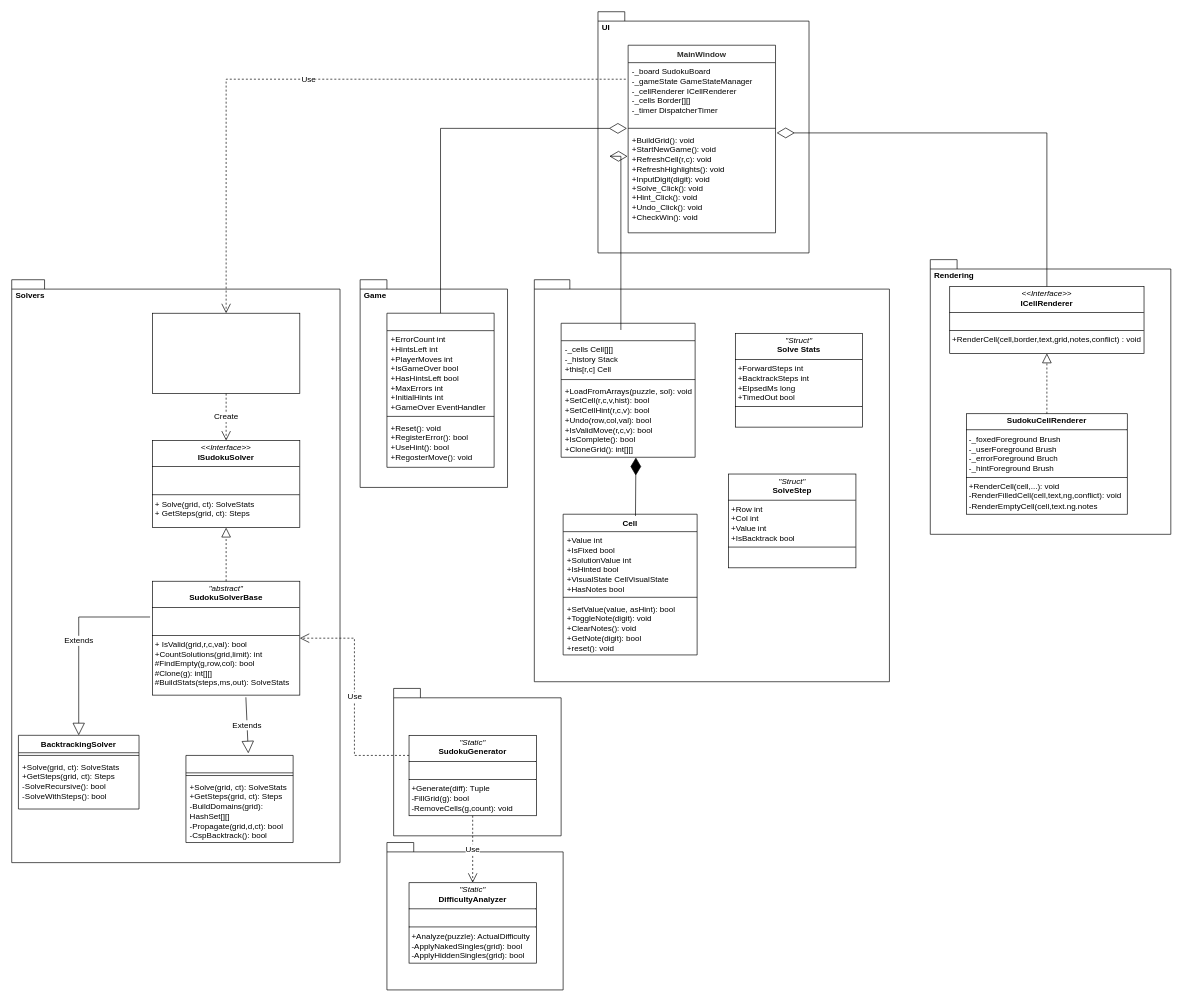
Image size: 1183x1002. Some labels were removed from this diagram. The box of each missing label's shape, as (x1, y1, x2, y2) in pixels:
"Static" SudokuSolverFactory + Create(algorithm): ISudokuSolver: (152, 313, 300, 394)
Analyzers: (386, 842, 563, 990)
CspSolver: (185, 755, 293, 843)
GameStateManager: (386, 313, 494, 467)
Generators: (393, 688, 561, 836)
Models: (534, 279, 889, 682)
SudokuBoard: (560, 323, 695, 457)
